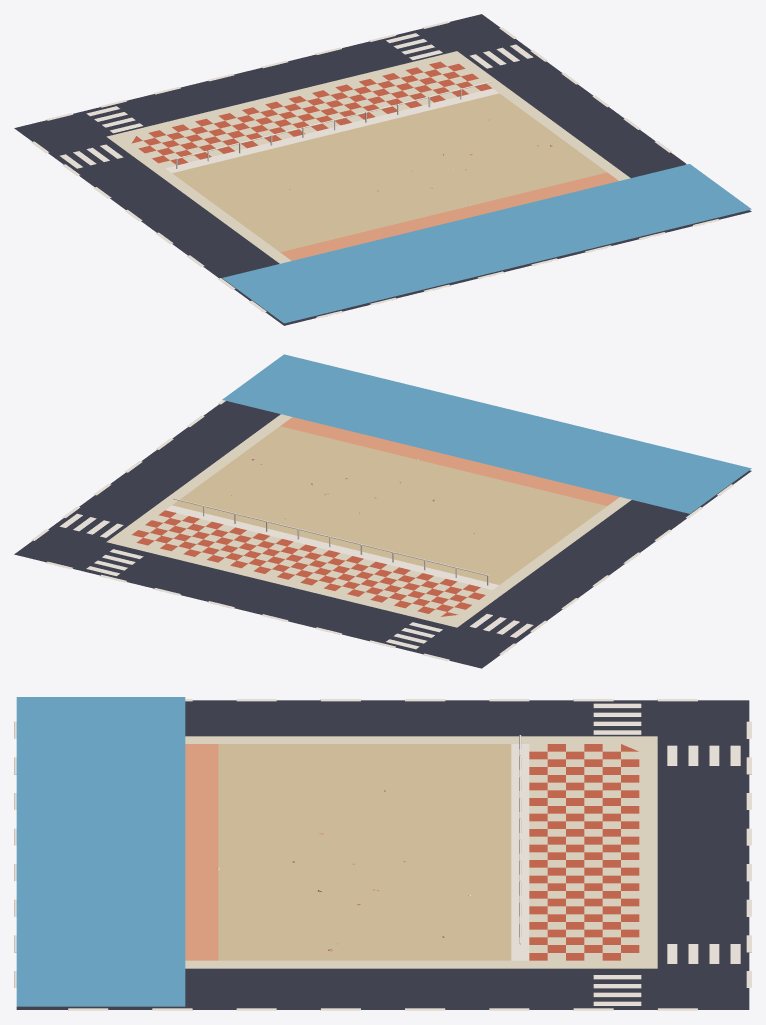
File: tile_beach.glb
3 renders of one model, top to bottom at view 1: azimuth 30°, elevation 25°; view 2: azimuth 150°, elevation 25°; view 3: azimuth 270°, elevation 25°, orthographic. The views are drawn at different scales.
Visible parts, largest first — view 1: tile_beach; view 2: tile_beach; view 3: tile_beach.
Part boxes in pixels (x1,y1,x2,y2): tile_beach: [14, 14, 751, 325]; tile_beach: [14, 354, 751, 668]; tile_beach: [14, 697, 751, 1010].
Bounding box in the file's own units: 40.3 × 1.04 × 40.3.
Materials: 1 (1 with a texture image).
